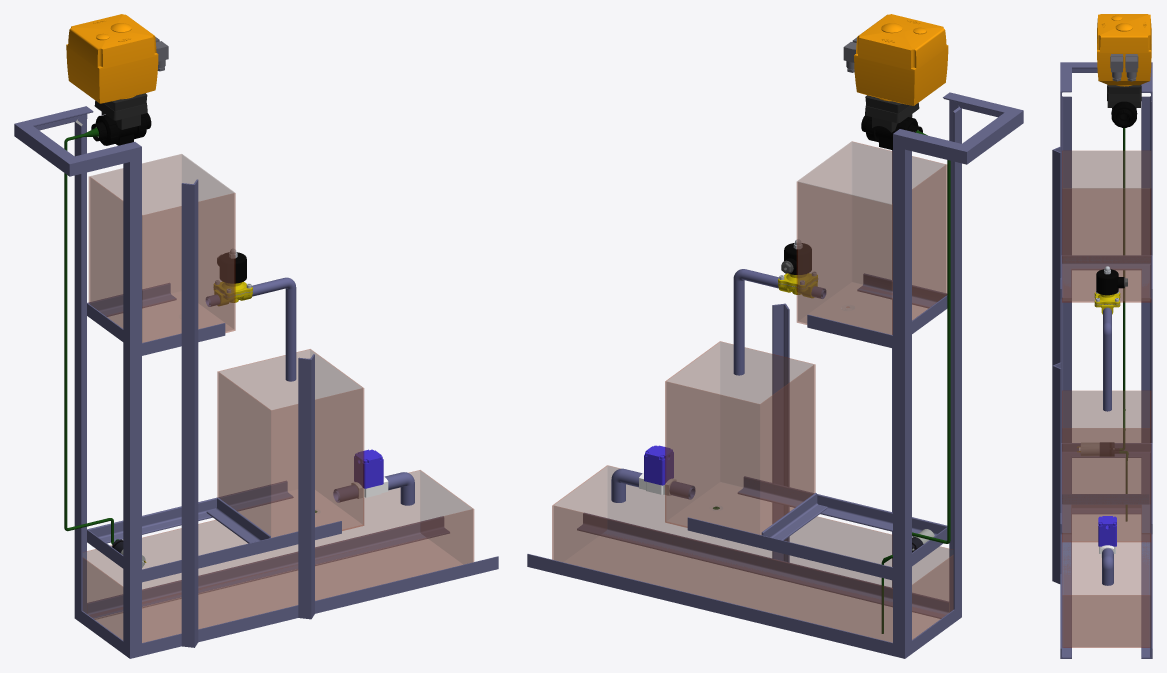
File: nuevomodeladocuerpo.glb
3 views of the same model, side by side, from view 1: azimuth 30°, elevation 25°; view 2: azimuth 150°, elevation 25°; view 3: azimuth 270°, elevation 25° (orthographic). The views are drawn at different scales.
Parts seen in each view (by area): view 1: Reserva.Interno, Reserva.Externo, Tanque2.Externo, Tanque2.Interno, Soporte.001, Tanque1.Externo, Tanque1.Interno, Soporte.002, Valvula_winner, Soporte.006, Soporte.004, Soporte.007 (+7 smaller); view 2: Reserva.Interno, Reserva.Externo, Tanque2.Externo, Tanque2.Interno, Tanque1.Externo, Tanque1.Interno, Soporte.001, Soporte.002, Valvula_winner, Soporte.004, Soporte.007, Soporte.005 (+6 smaller); view 3: Tanque2.Externo, Tanque1.Externo, Tanque2.Interno, Tanque1.Interno, Reserva.Interno, Reserva.Externo, Soporte.001, Valvula_winner, Soporte.002, Soporte.004, Soporte.007, Soporte.006 (+8 smaller).
Boxes of the visible parts, x1,y1,x2,y2 form: Reserva.Interno: [82, 470, 472, 642]; Reserva.Externo: [83, 470, 473, 642]; Tanque2.Externo: [217, 349, 363, 537]; Tanque2.Interno: [218, 349, 362, 537]; Soporte.001: [14, 106, 141, 658]; Tanque1.Externo: [89, 154, 235, 342]; Tanque1.Interno: [90, 154, 234, 342]; Soporte.002: [75, 516, 498, 658]; Valvula_winner: [66, 14, 168, 145]; Soporte.006: [181, 179, 198, 647]; Soporte.004: [87, 481, 341, 582]; Soporte.007: [298, 354, 314, 619]; Reserva.Interno: [553, 465, 953, 642]; Reserva.Externo: [552, 466, 953, 642]; Tanque2.Externo: [665, 342, 815, 534]; Tanque2.Interno: [666, 341, 814, 534]; Tanque1.Externo: [797, 142, 946, 334]; Tanque1.Interno: [797, 141, 946, 334]; Soporte.001: [893, 92, 1023, 658]; Soporte.002: [527, 512, 961, 658]; Valvula_winner: [843, 14, 948, 150]; Soporte.004: [687, 476, 947, 580]; Soporte.007: [772, 303, 789, 562]; Soporte.005: [807, 273, 947, 348]; Tanque2.Externo: [1062, 391, 1150, 541]; Tanque1.Externo: [1062, 151, 1150, 302]; Tanque2.Interno: [1062, 391, 1150, 540]; Tanque1.Interno: [1062, 151, 1150, 300]; Reserva.Interno: [1062, 542, 1150, 646]; Reserva.Externo: [1062, 542, 1150, 647]; Soporte.001: [1060, 62, 1152, 442]; Valvula_winner: [1097, 14, 1151, 127]; Soporte.002: [1060, 505, 1152, 658]; Soporte.004: [1060, 443, 1152, 534]; Soporte.007: [1052, 362, 1061, 583]; Soporte.006: [1052, 146, 1061, 365].
Size of the model in its own units: 36.24 by 48.33 by 8.82.
